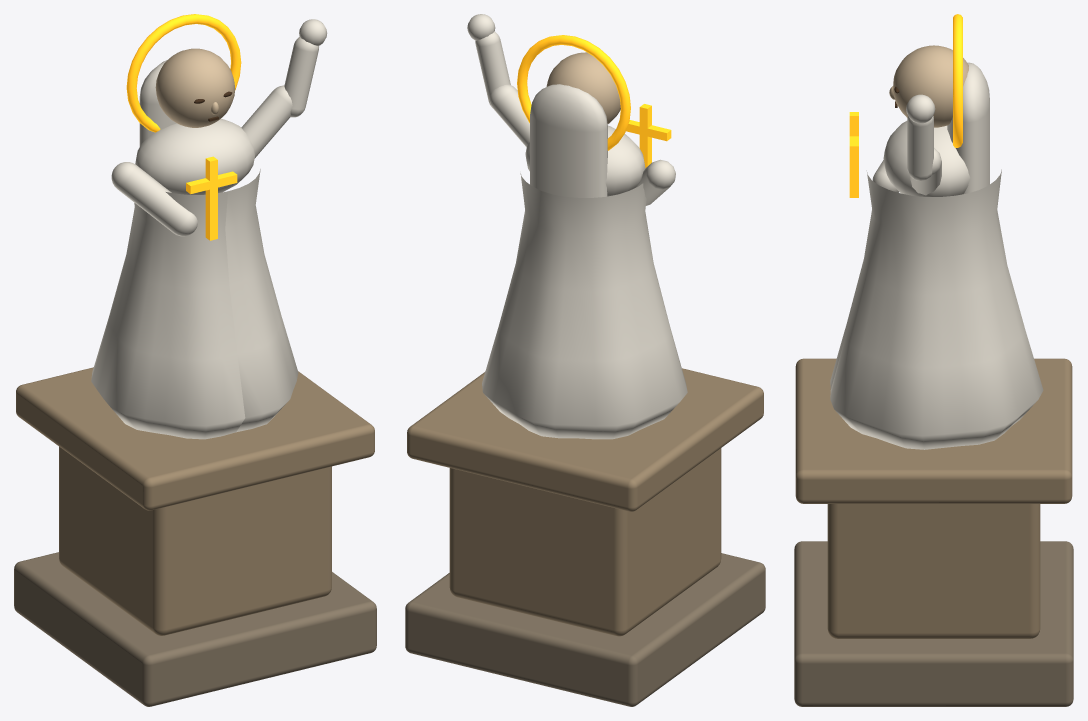
File: statue.glb
3 views of the same model, side by side, from view 1: azimuth 30°, elevation 25°; view 2: azimuth 150°, elevation 25°; view 3: azimuth 270°, elevation 25° (orthographic). The views are drawn at different scales.
Parts seen in each view (by area): view 1: Robe, Pedestal, Plinth, Cap, Shoulders, Head, ArmL, object 12, ArmR, ForeR, Cross, Drape (+1 smaller); view 2: Robe, Pedestal, Plinth, Cap, Drape, object 12, Head, Shoulders, ForeR, ArmR, Cross, ArmL (+1 smaller); view 3: Robe, Pedestal, Plinth, Cap, Head, Drape, Shoulders, ForeR, object 12, Cross, HandR, ArmR.
Part boxes in pixels (box(x1,y1,x2,y2)): Robe: box(91, 169, 298, 439); Pedestal: box(59, 446, 331, 635); Plinth: box(14, 552, 376, 706); Cap: box(16, 367, 374, 510); Shoulders: box(135, 118, 255, 194); Head: box(155, 48, 235, 127); ArmL: box(111, 162, 197, 236); object 12: box(126, 14, 241, 132); ArmR: box(241, 85, 292, 158); ForeR: box(284, 36, 318, 117); Cross: box(186, 156, 237, 240); Drape: box(139, 60, 176, 146); Robe: box(482, 173, 687, 439); Pedestal: box(449, 448, 721, 636); Plinth: box(405, 553, 765, 706); Cap: box(407, 368, 763, 511); Drape: box(530, 84, 607, 197); object 12: box(517, 35, 630, 150); Head: box(546, 52, 620, 123); Shoulders: box(525, 125, 645, 196); ForeR: box(475, 31, 510, 107); ArmR: box(489, 84, 529, 146); Cross: box(626, 104, 671, 167); ArmL: box(636, 159, 675, 205); Robe: box(830, 169, 1043, 449); Pedestal: box(827, 504, 1040, 638); Plinth: box(794, 541, 1073, 706); Cap: box(795, 358, 1072, 503); Head: box(893, 45, 968, 127); Drape: box(947, 62, 989, 194); Shoulders: box(883, 121, 970, 196); ForeR: box(907, 116, 933, 181); object 12: box(953, 14, 962, 147); Cross: box(849, 112, 858, 197); HandR: box(906, 94, 935, 123); ArmR: box(910, 148, 941, 195).
Size of the model in its own units: 1.08 by 2.61 by 1.05.
